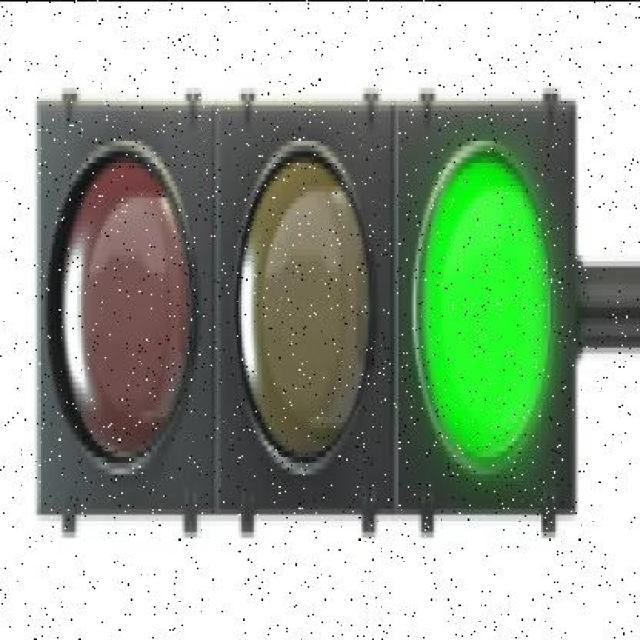green-light: (23, 110, 586, 532)
